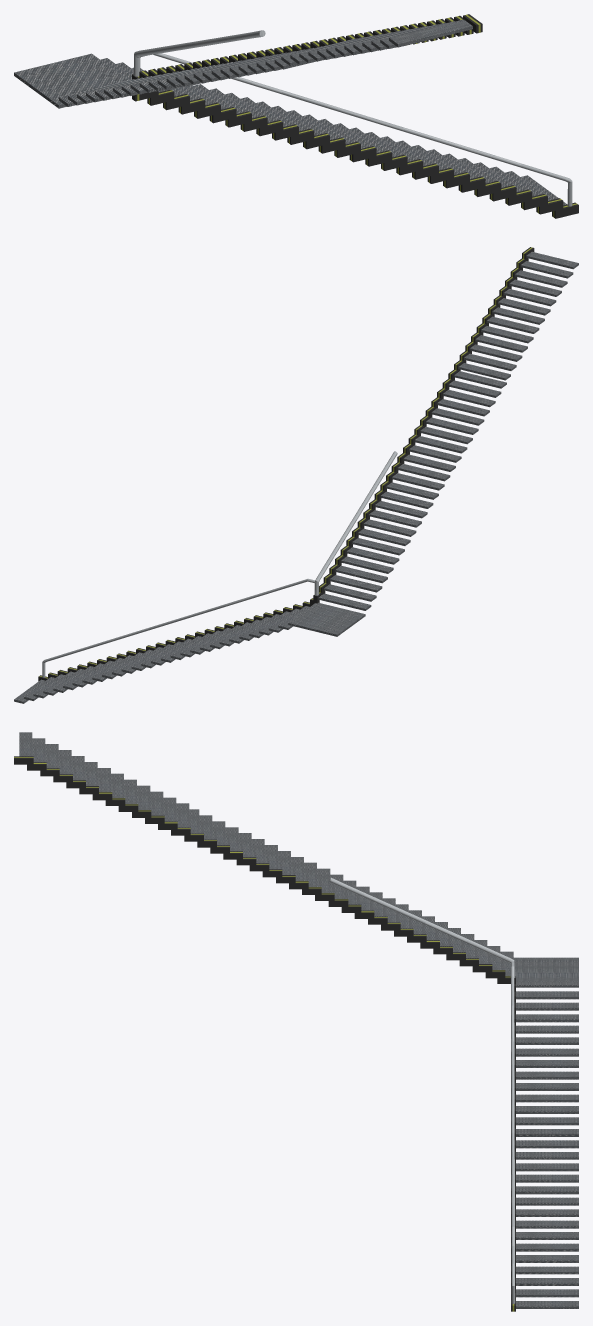
File: Stairs3.fbx
3 renders of one model, top to bottom at view 1: azimuth 30°, elevation 25°; view 2: azimuth 150°, elevation 25°; view 3: azimuth 270°, elevation 25°, orthographic. The views are drawn at different scales.
Parts seen in each view (by area): view 1: Cube.087, Cube.008, Cylinder.002, Cylinder, Cube.069, Cube.057, Cube.044; view 2: Cube.087, Cube.008, Cylinder.002, Cube.044, Cube.057, Cylinder; view 3: Cube.087, Cube.008, Cube.057, Cube.044, Cylinder.002, Cylinder.
Boxes of the visible parts, x1,y1,x2,y2 form: Cube.087: (132, 51, 578, 218); Cube.008: (14, 53, 127, 108); Cylinder.002: (140, 53, 572, 206); Cylinder: (133, 30, 265, 76); Cube.069: (389, 19, 472, 47); Cube.057: (364, 14, 482, 50); Cube.044: (256, 33, 369, 58); Cube.087: (38, 471, 398, 681); Cube.008: (288, 602, 365, 636); Cylinder.002: (42, 578, 315, 677); Cube.044: (391, 360, 466, 472); Cube.057: (459, 247, 534, 360); Cylinder: (314, 451, 397, 595); Cube.087: (328, 899, 515, 1311); Cube.008: (513, 957, 578, 987); Cube.057: (14, 756, 177, 829); Cube.044: (171, 827, 334, 900); Cylinder.002: (511, 962, 515, 1303); Cylinder: (329, 877, 515, 977).
Bounding box in the file's own units: 3330 × 3350 × 4315.
